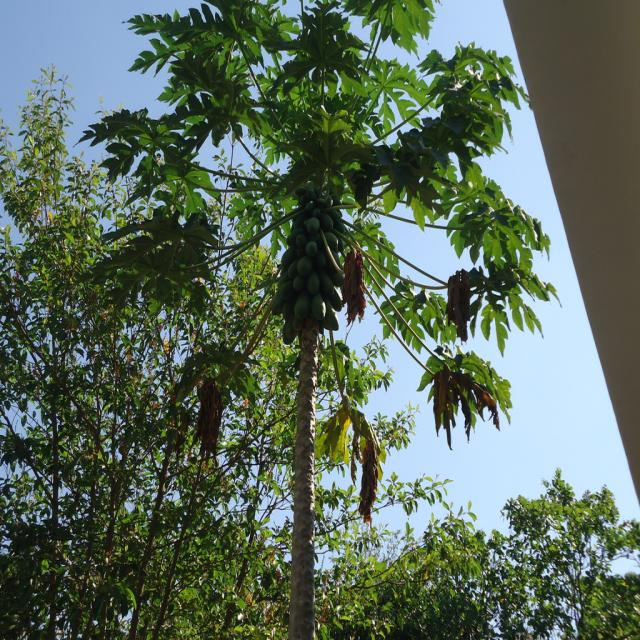Papaya-Tree: (123, 4, 548, 640)
